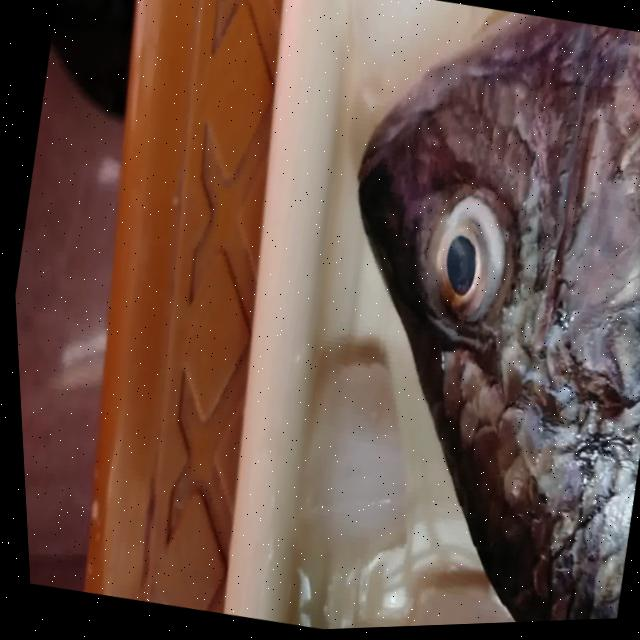Fresh: (368, 147, 562, 398)
